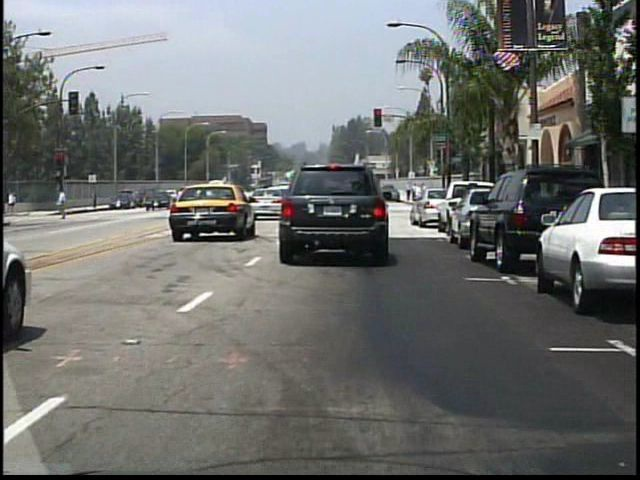person: (409, 181, 429, 215), (58, 186, 71, 222), (6, 189, 18, 215), (420, 180, 428, 203), (412, 180, 419, 203), (405, 181, 412, 202)
